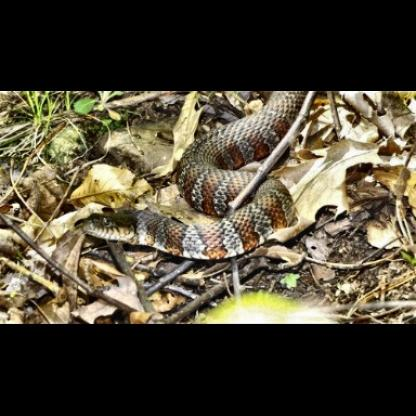Snake: (81, 88, 311, 267)
